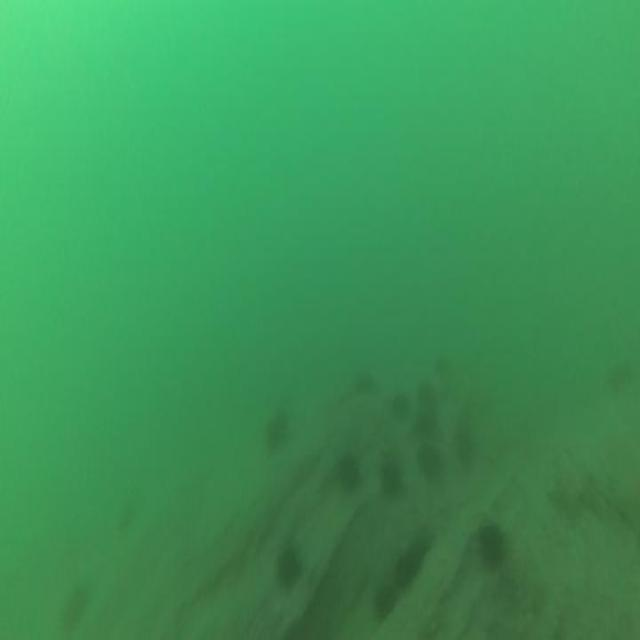echinus: (388, 534, 427, 596), (58, 575, 92, 640), (476, 516, 508, 582), (330, 442, 362, 502), (604, 351, 640, 401), (275, 537, 305, 596), (412, 434, 443, 484), (264, 404, 291, 456), (377, 458, 403, 508), (372, 580, 396, 626), (411, 403, 441, 438), (351, 366, 377, 402), (412, 379, 438, 411), (390, 387, 410, 425)
